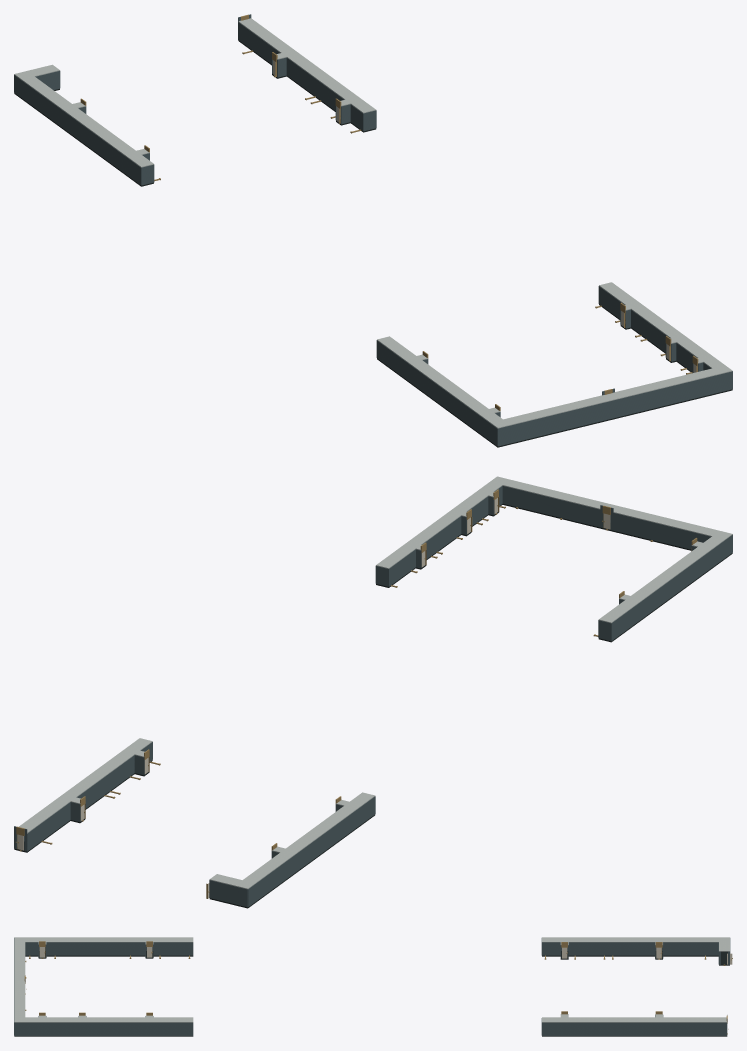
Rendered from D04_PORT_AFT_COURT_ROUTES_r001.glb.
3 views of the same model, one above another, from view 1: azimuth 30°, elevation 25°; view 2: azimuth 150°, elevation 25°; view 3: azimuth 270°, elevation 25° (orthographic). The views are drawn at different scales.
Visible parts, largest first — view 1: PAR_Roof1, PAR_Wall1_5_0, PAR_Wall0_1_0, PAR_Wall1_2_0, PAR_Roof0, PAR_Roof2, PAR_Wall2_11_0, PAR_Floor1; view 2: PAR_Roof1, PAR_Wall0_1_0, PAR_Wall1_2_0, PAR_Roof0, PAR_Wall1_23_1, PAR_Roof2, PAR_Wall1_23_0, PAR_Wall2_11_0, PAR_Wall2_7_0, PAR_Floor1; view 3: PAR_Roof1, PAR_Wall2_5_0, PAR_Wall1_8_0, PAR_Wall1_28_0, PAR_Roof0, PAR_Wall0_7_0, PAR_Roof2, PAR_Wall0_11_0, PAR_Wall1_0_0, PAR_Floor1, PAR_Floor0, PAR_Wall0_3_0 (+1 smaller).
Boxes of the visible parts, x1=… form: PAR_Roof1: x1=377, y1=282, x2=732, y2=428; PAR_Wall1_5_0: x1=510, y1=374, x2=719, y2=443; PAR_Wall0_1_0: x1=14, y1=74, x2=141, y2=184; PAR_Wall1_2_0: x1=376, y1=340, x2=489, y2=440; PAR_Roof0: x1=14, y1=64, x2=153, y2=167; PAR_Roof2: x1=238, y1=18, x2=375, y2=113; PAR_Wall2_11_0: x1=286, y1=58, x2=344, y2=110; PAR_Floor1: x1=377, y1=304, x2=732, y2=447; PAR_Roof1: x1=376, y1=476, x2=732, y2=623; PAR_Wall0_1_0: x1=248, y1=796, x2=375, y2=906; PAR_Wall1_2_0: x1=611, y1=540, x2=725, y2=640; PAR_Roof0: x1=209, y1=792, x2=375, y2=889; PAR_Wall1_23_1: x1=502, y1=486, x2=603, y2=527; PAR_Roof2: x1=19, y1=738, x2=152, y2=833; PAR_Wall1_23_0: x1=611, y1=512, x2=711, y2=549; PAR_Wall2_11_0: x1=77, y1=755, x2=134, y2=808; PAR_Wall2_7_0: x1=27, y1=802, x2=70, y2=851; PAR_Floor1: x1=376, y1=504, x2=732, y2=642; PAR_Roof1: x1=14, y1=937, x2=193, y2=1022; PAR_Wall2_5_0: x1=542, y1=1022, x2=727, y2=1035; PAR_Wall1_8_0: x1=25, y1=1022, x2=193, y2=1035; PAR_Wall1_28_0: x1=46, y1=942, x2=145, y2=955; PAR_Roof0: x1=542, y1=937, x2=729, y2=951; PAR_Wall0_7_0: x1=568, y1=942, x2=654, y2=955; PAR_Roof2: x1=542, y1=1014, x2=727, y2=1022; PAR_Wall0_11_0: x1=663, y1=942, x2=718, y2=955; PAR_Wall1_0_0: x1=153, y1=942, x2=193, y2=955; PAR_Floor1: x1=14, y1=951, x2=193, y2=1036; PAR_Floor0: x1=542, y1=951, x2=729, y2=965; PAR_Wall0_3_0: x1=542, y1=942, x2=560, y2=955.
Size of the model in its own units: 44.32 by 4.22 by 158.
Materials: 7 (7 with a texture image).
